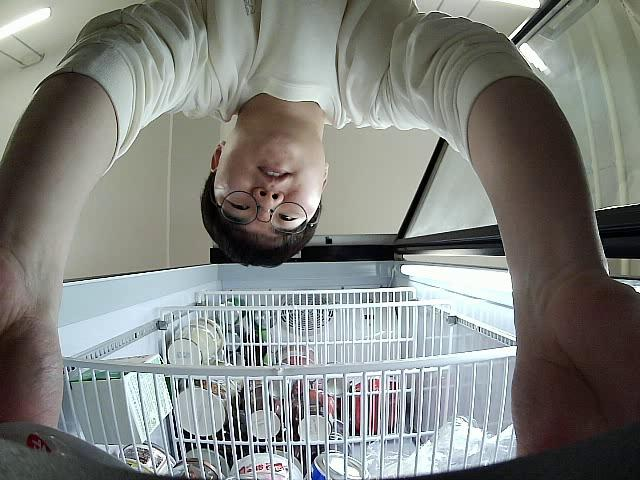09_yukGaeJang: (5, 419, 154, 480)
